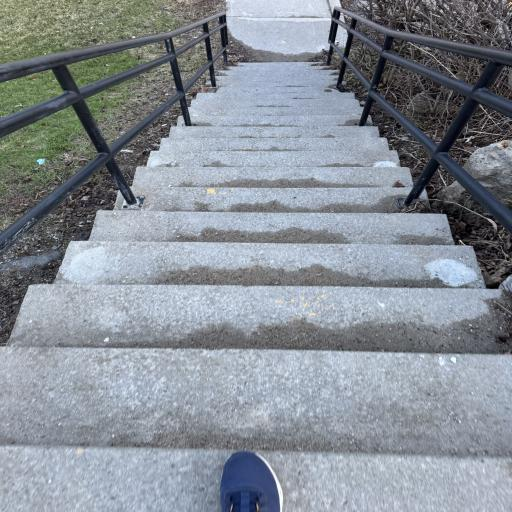Stairs: (0, 62, 512, 512)
